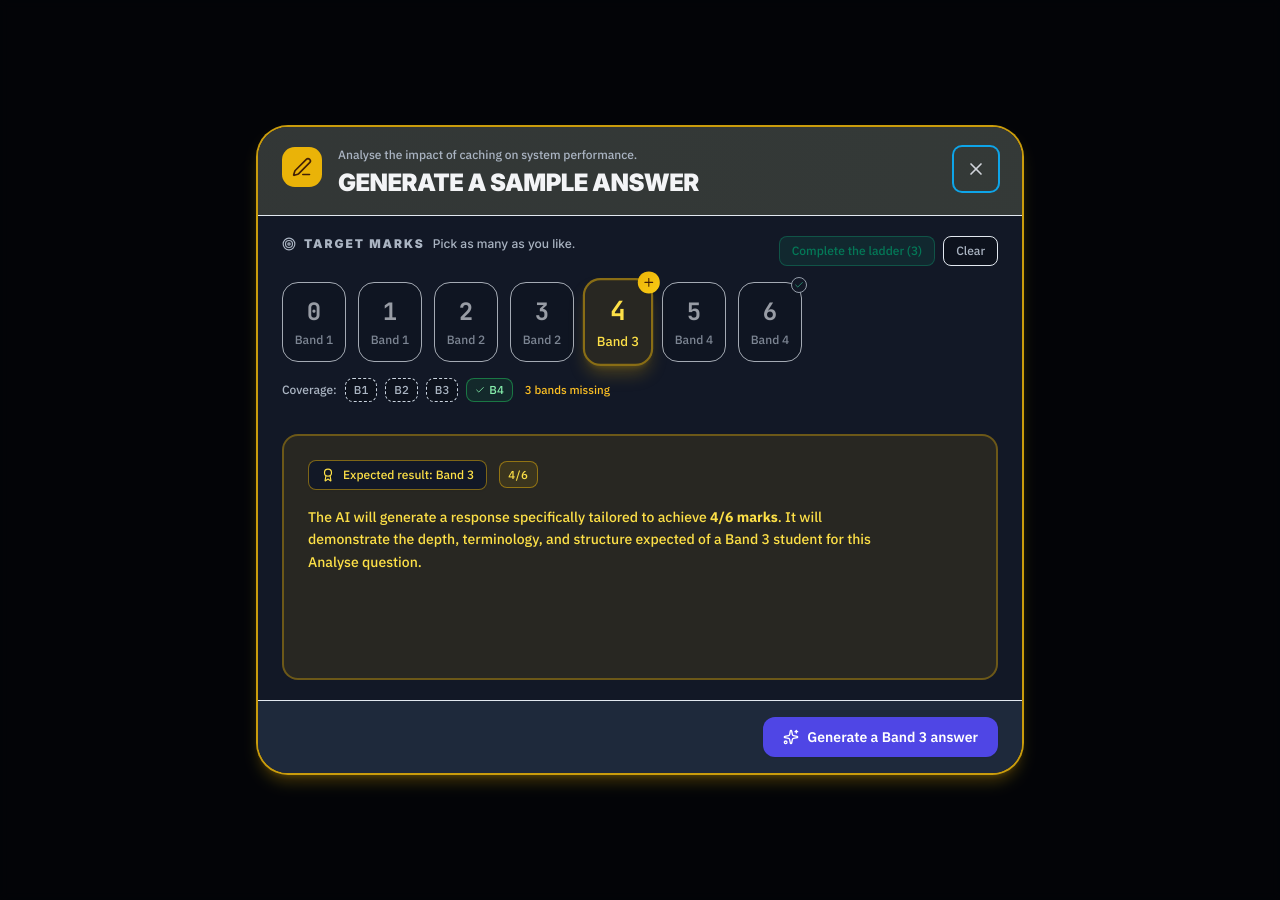
Test case: a generated answer that repeats one already at that mark › loses nothing but the repeat when the reader discards it
The width and height of the screenshot is (1280, 900).
Step 1. Click the button "Clear" → (971, 251), box [943,236,998,266]
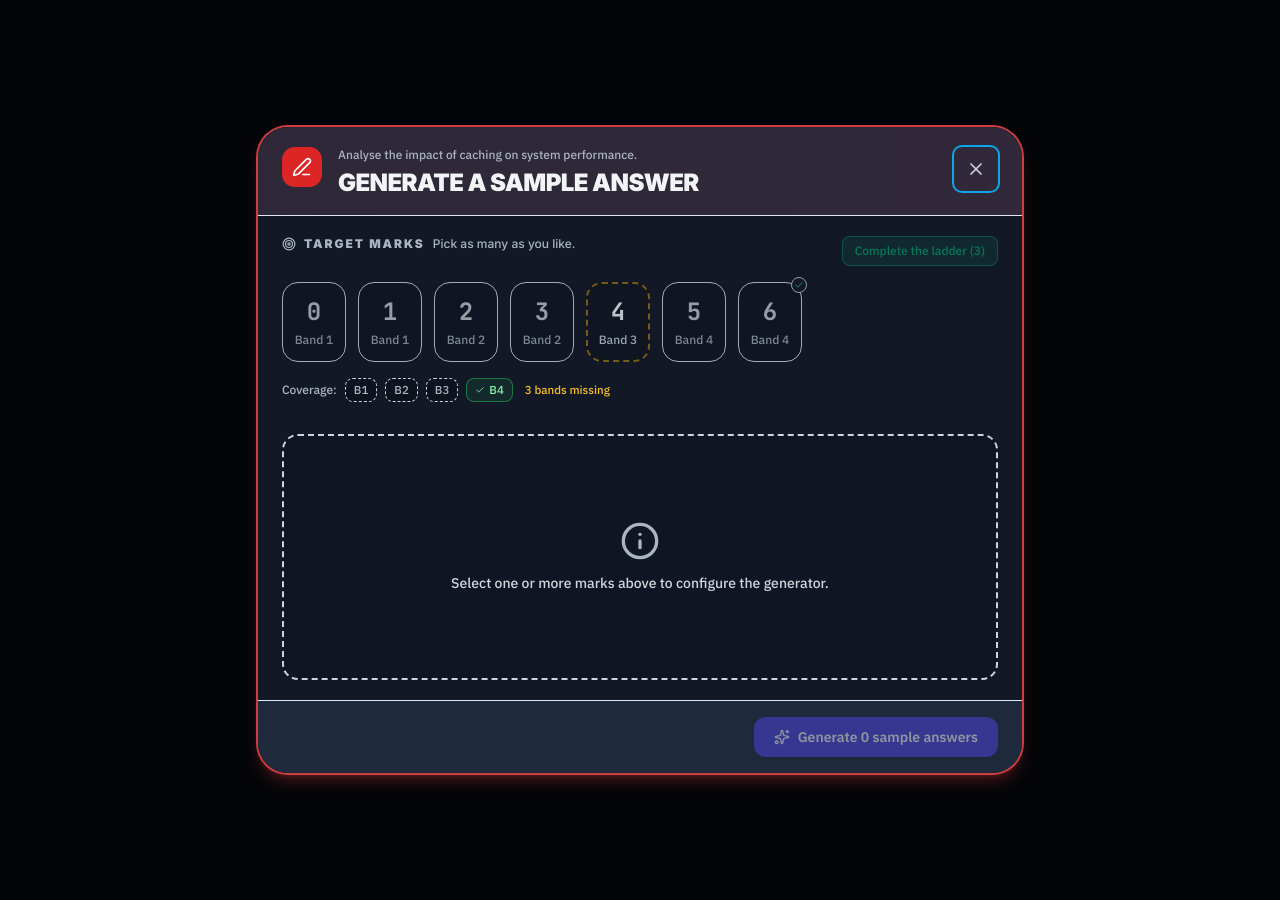
Step 2. Click the button "6 Band 4" → (770, 322), box [738,282,802,362]
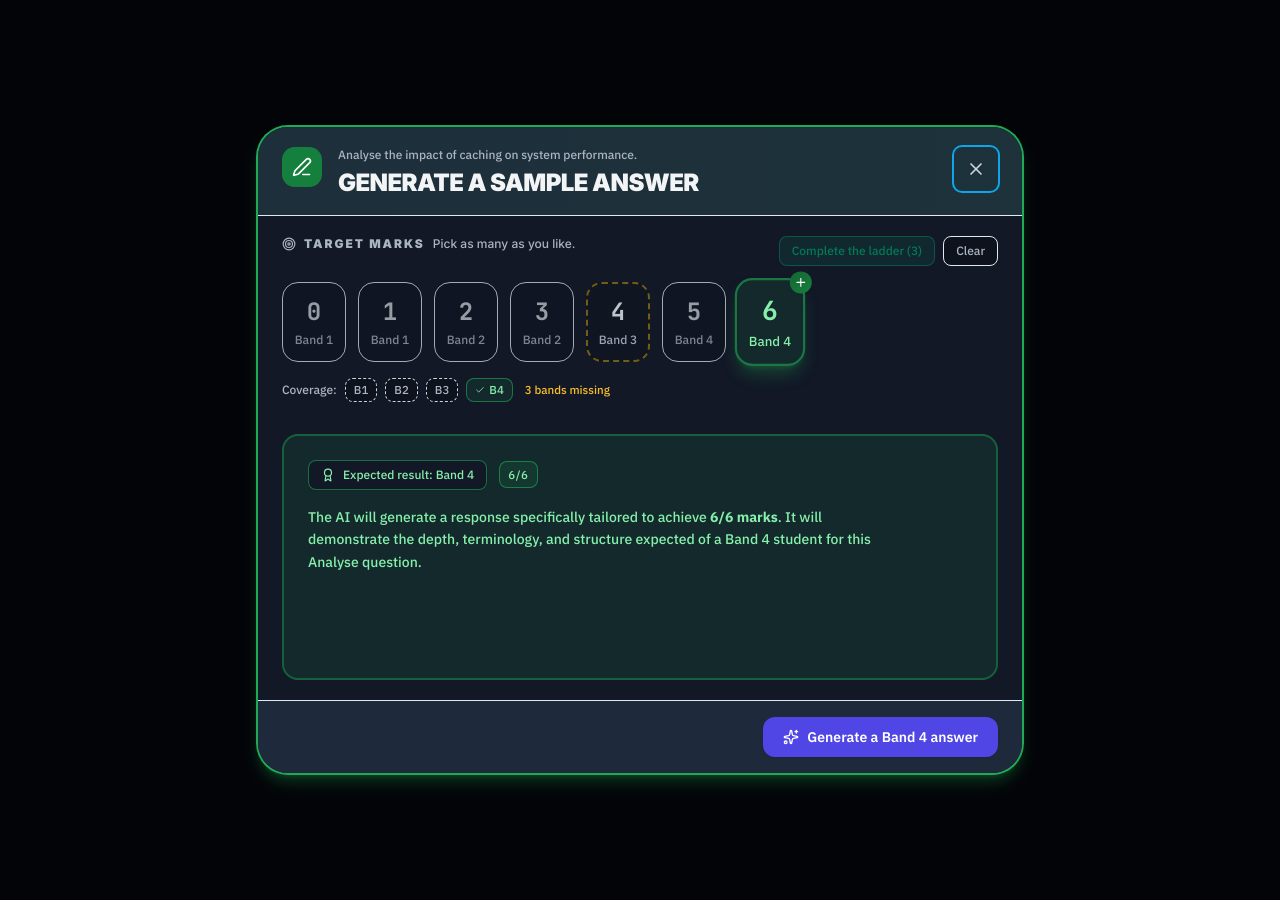
Step 3. Click the button "Generate a Band 4 answer" → (881, 737), box [763,717,998,757]
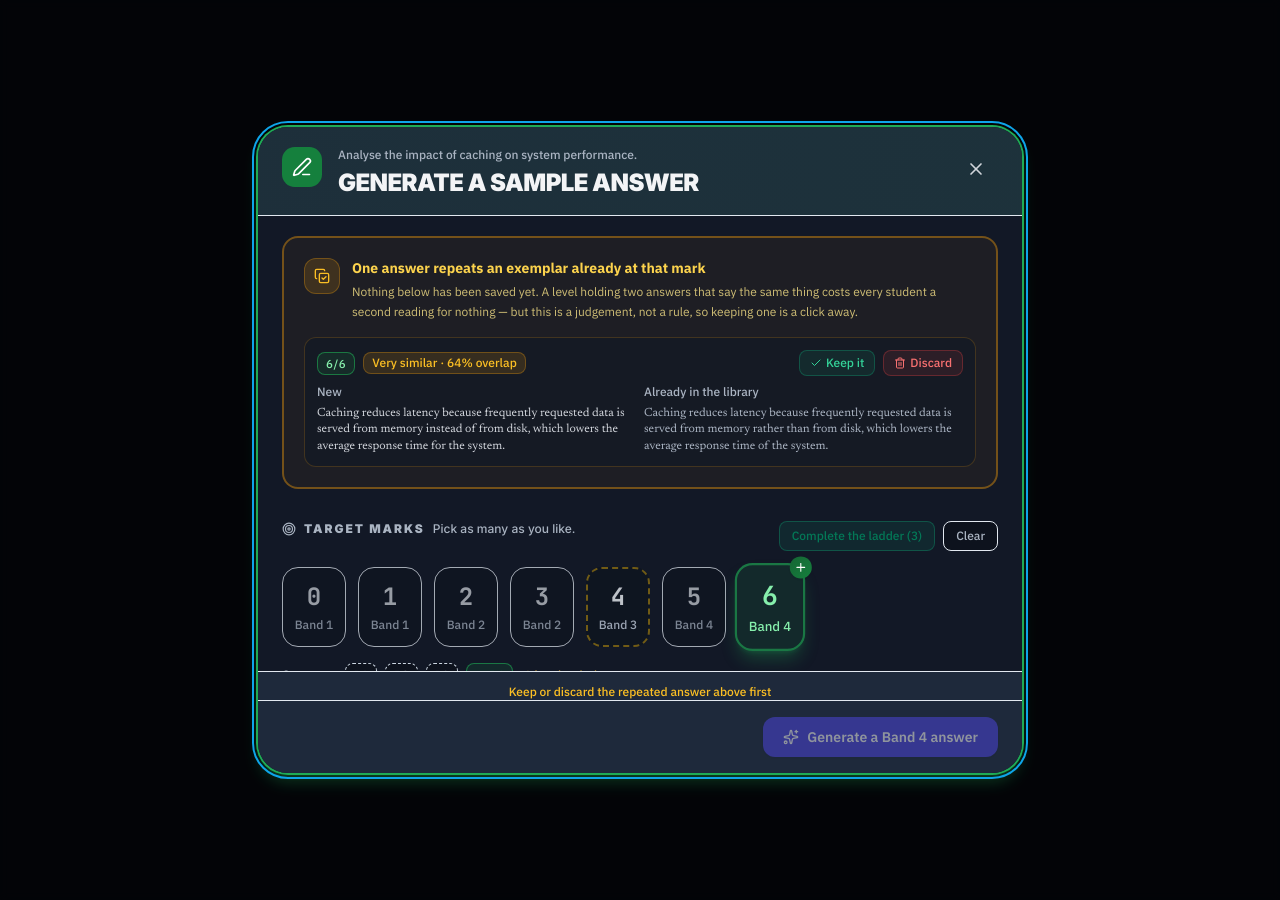
Step 4. Click the button "Discard" → (923, 363), box [883,350,963,376]
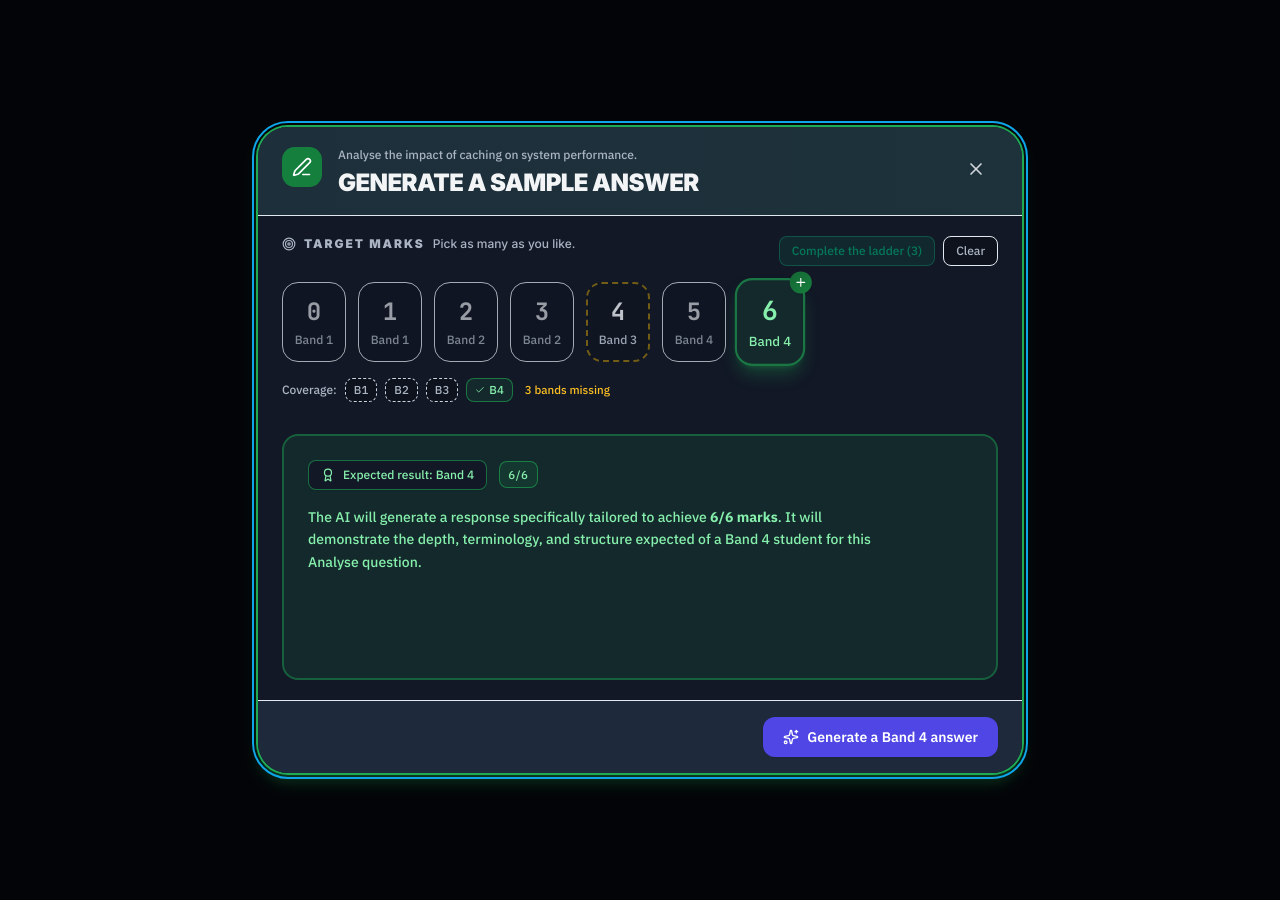
Now the heading "repeats an exemplar already at that mark" is gone
